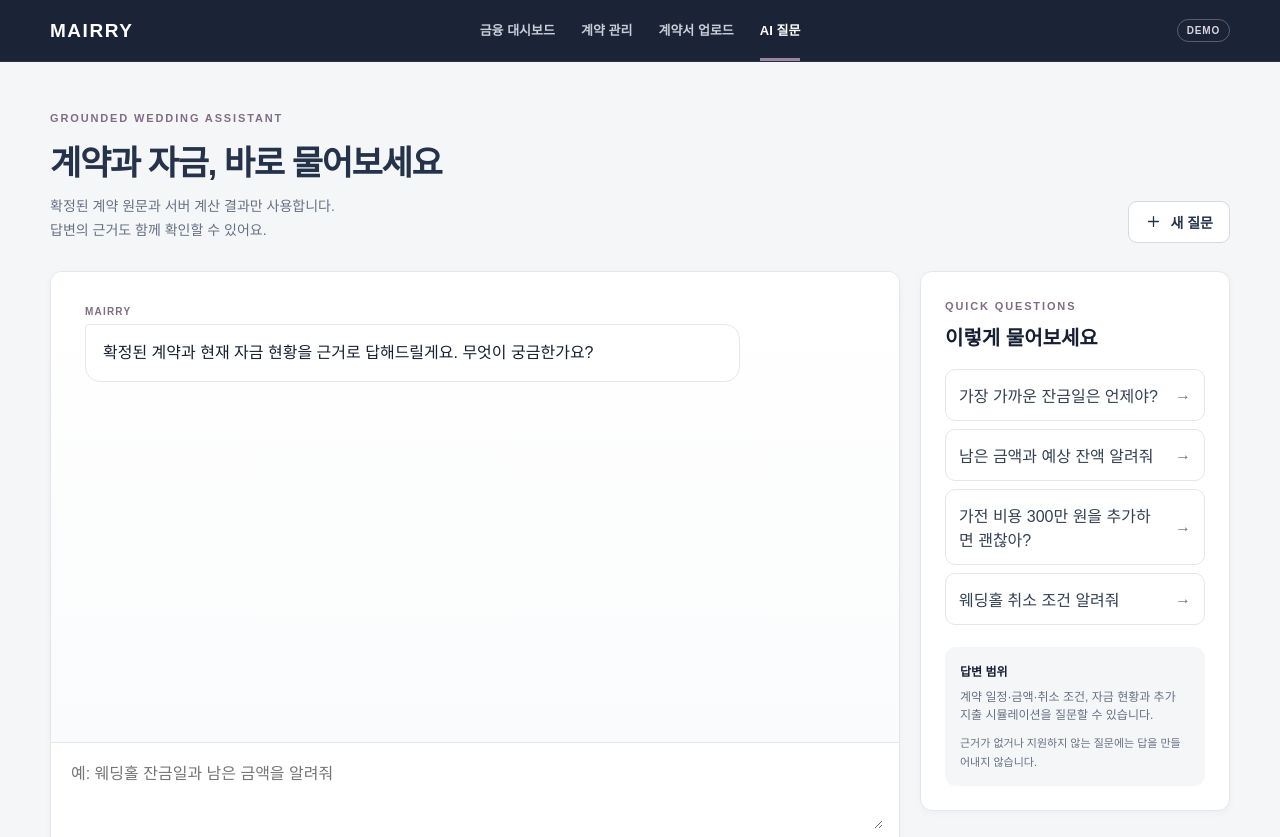
Scenario: ChatPage › sends a suggested question and links the returned evidence to its contract
The width and height of the screenshot is (1280, 837).
Click the button "가장 가까운 잔금일은 언제야? →" at (1075, 395), box left=945, top=369, right=1205, bottom=421
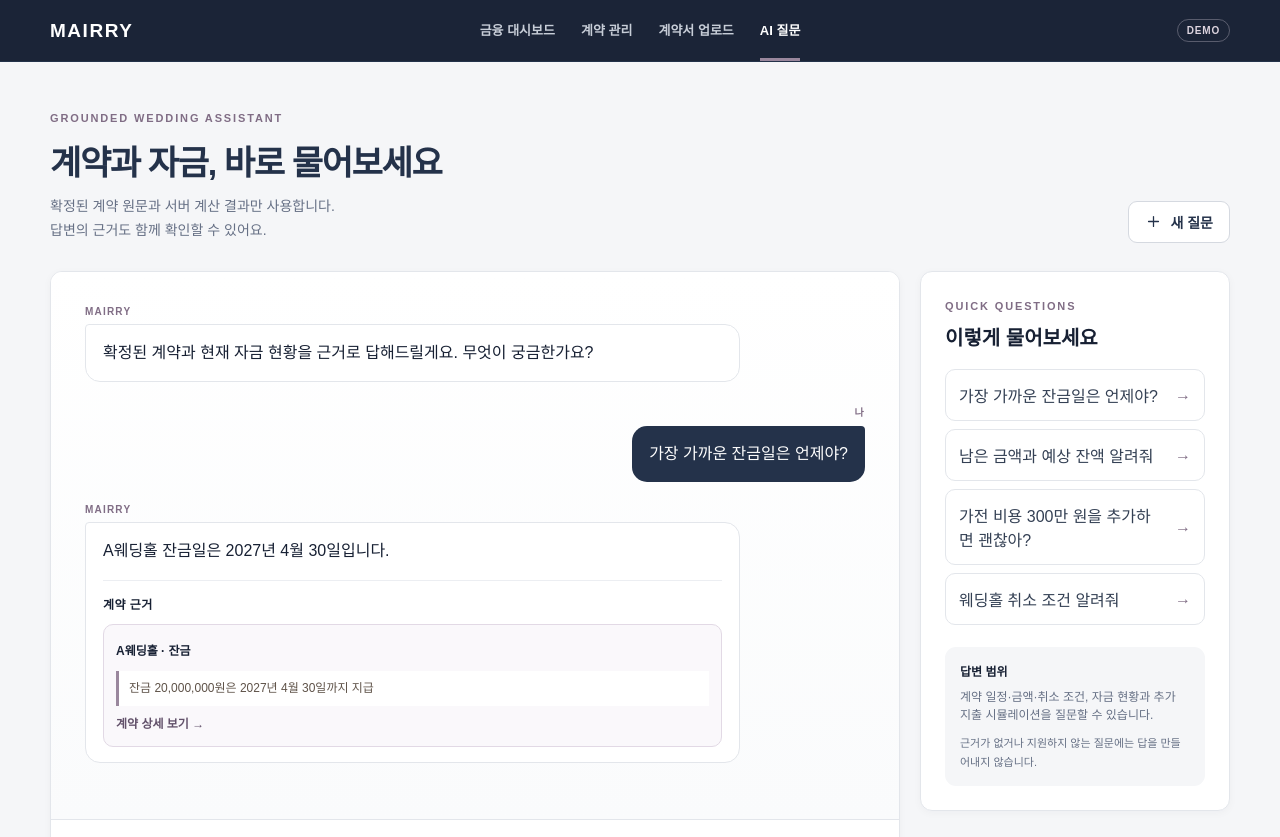
Now the text "A웨딩홀 잔금일은 2027년 4월 30일입니다." is shown, box left=103, top=542, right=390, bottom=559
Now the text "잔금 20,000,000원은 2027년 4월 30일까지 지급" is shown, box left=116, top=671, right=709, bottom=706
